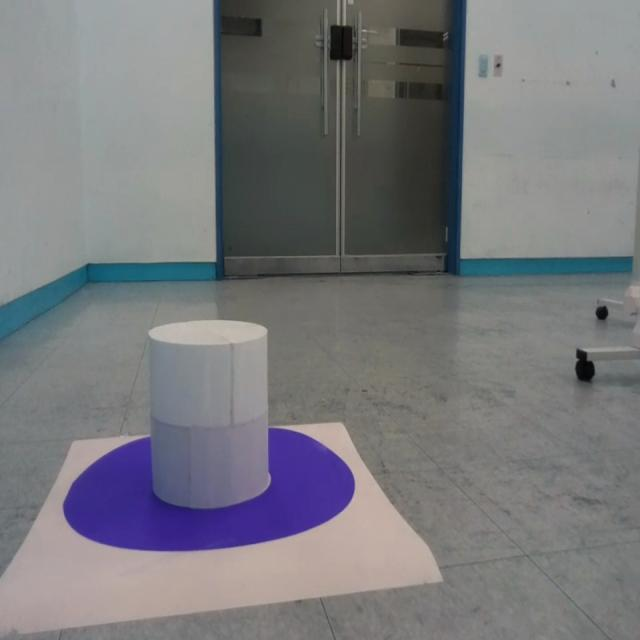cylinder: (147, 319, 271, 509)
